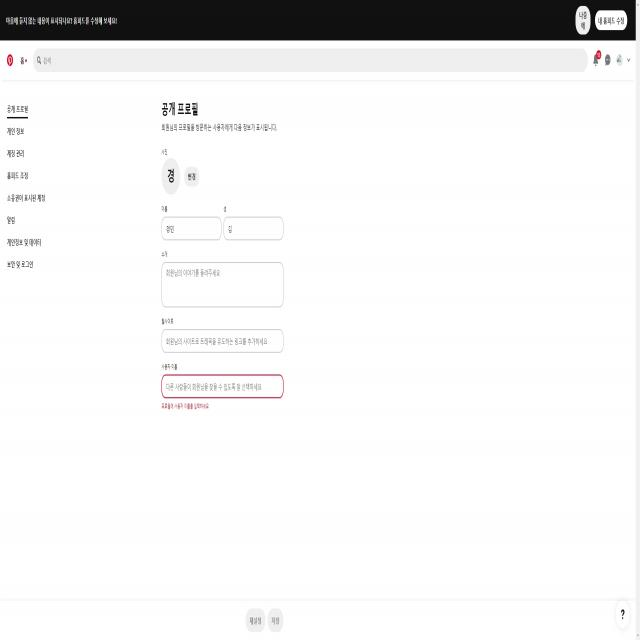menu-bar: (591, 48, 632, 74)
menu-panel: (1, 90, 64, 304)
search: (31, 47, 588, 72)
tab-bar: (4, 50, 30, 70)
